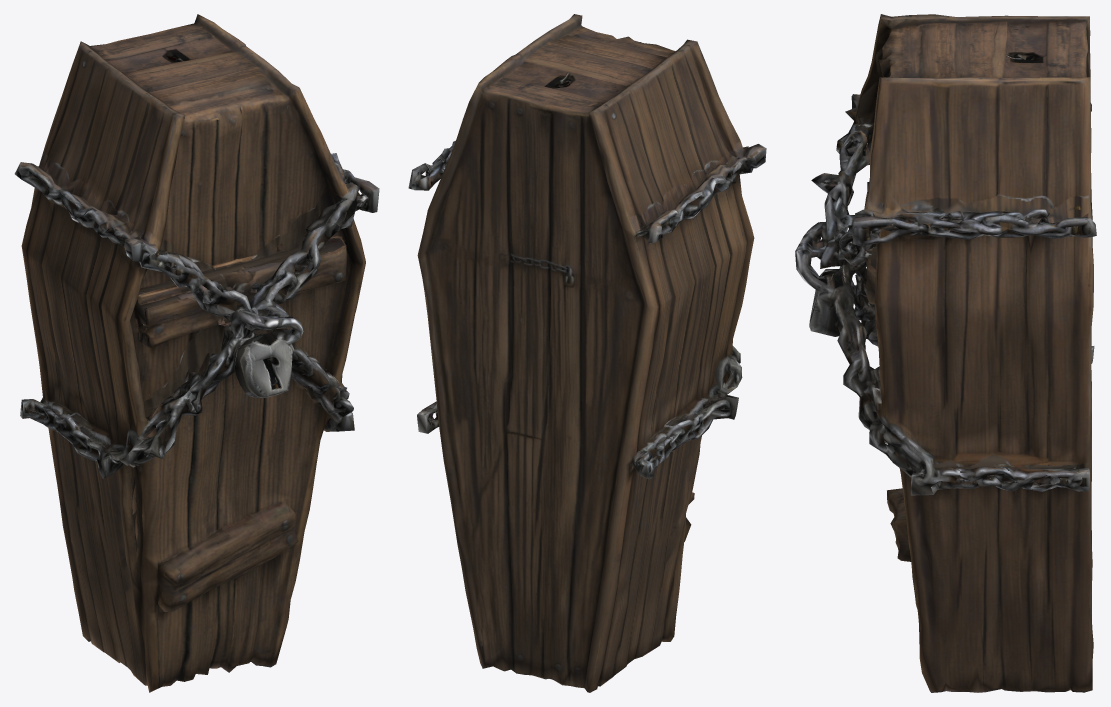
File: coffin.glb
The picture shows the model from 3 angles, left to right: view 1: azimuth 30°, elevation 25°; view 2: azimuth 150°, elevation 25°; view 3: azimuth 270°, elevation 25°; orthographic projection. The views are drawn at different scales.
Size of the model in its own units: 0.8986 by 1.99 by 0.8813.
Materials: 1 (1 with a texture image).
